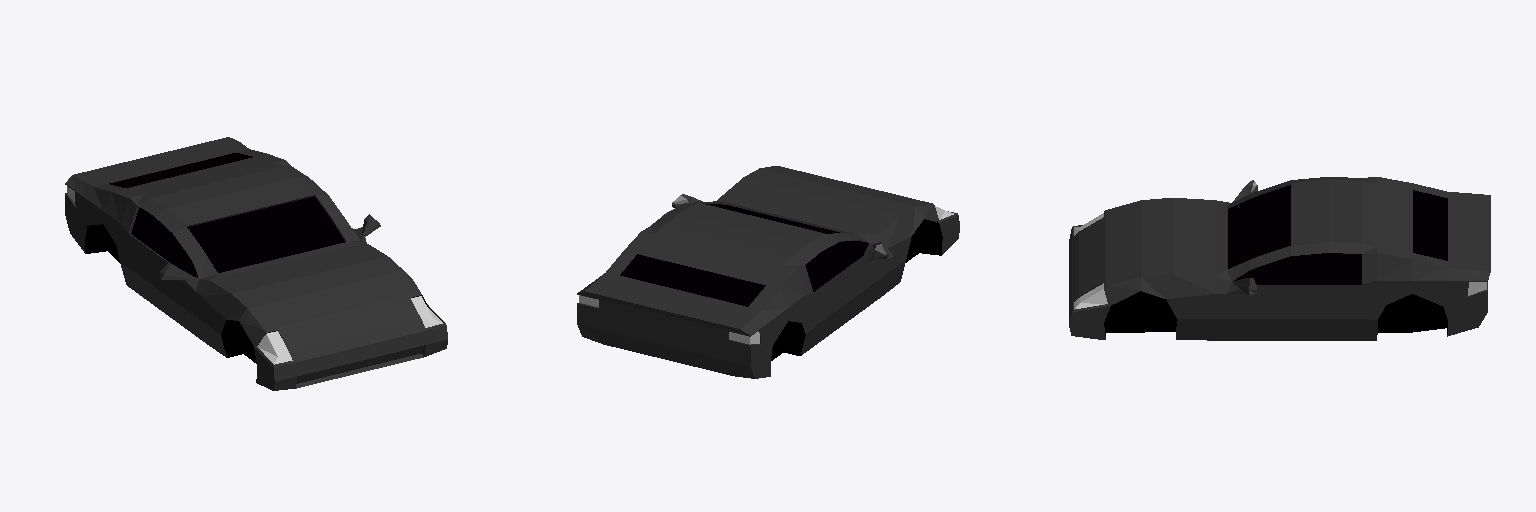
File: NaveD.obj
3 views of the same model, side by side, from view 1: azimuth 30°, elevation 25°; view 2: azimuth 150°, elevation 25°; view 3: azimuth 270°, elevation 25° (orthographic).
Visible parts, largest first — view 1: Cube; view 2: Cube; view 3: Cube.
Part boxes in pixels (bbox=[...]): Cube: bbox=[65, 137, 447, 390]; Cube: bbox=[577, 166, 959, 378]; Cube: bbox=[1069, 177, 1490, 340].
Size of the model in its own units: 2.52 by 0.9889 by 4.18.